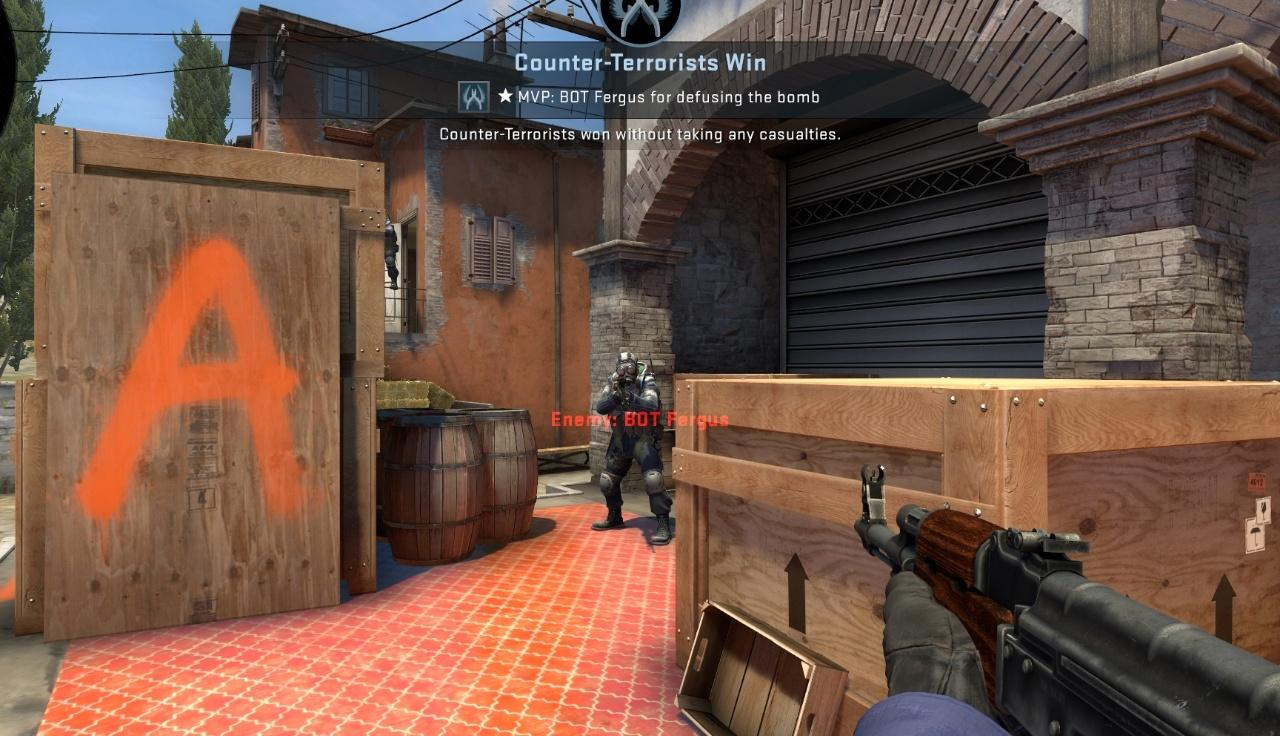ct: (596, 351, 671, 544), (386, 215, 398, 288)
cthead: (614, 352, 639, 382)
rifle: (854, 466, 1280, 736)
